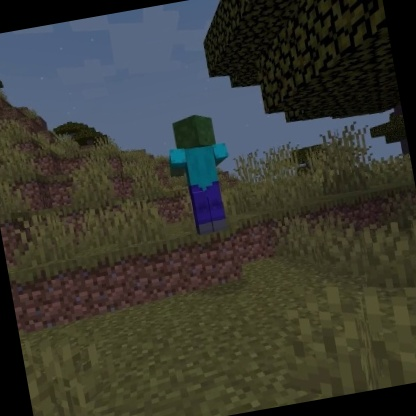zombie: (158, 107, 245, 244)
